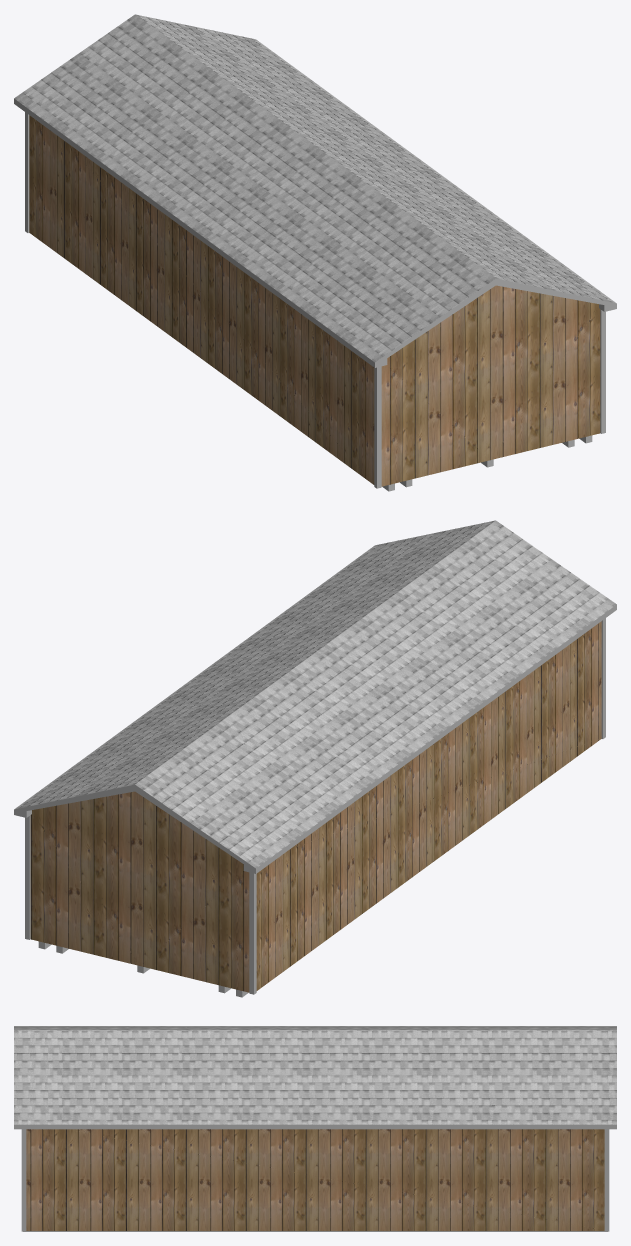
File: Classic A-Frame_12x32.obj
3 views of the same model, one above another, from view 1: azimuth 30°, elevation 25°; view 2: azimuth 150°, elevation 25°; view 3: azimuth 270°, elevation 25° (orthographic). The views are drawn at different scales.
Parts seen in each view (by area): view 1: Roof, Shed, Sides, Trim; view 2: Roof, Shed, Sides, Trim; view 3: Roof, Shed, Sides, Trim, Floor.
Part boxes in pixels (x1=…): Roof: x1=14, y1=14, x2=616, y2=362; Shed: x1=29, y1=115, x2=600, y2=486; Sides: x1=14, y1=98, x2=616, y2=367; Trim: x1=25, y1=112, x2=605, y2=488; Roof: x1=14, y1=520, x2=616, y2=868; Shed: x1=30, y1=621, x2=601, y2=992; Sides: x1=14, y1=604, x2=616, y2=873; Trim: x1=25, y1=618, x2=605, y2=994; Roof: x1=14, y1=1026, x2=616, y2=1124; Shed: x1=26, y1=1129, x2=604, y2=1230; Sides: x1=14, y1=1124, x2=616, y2=1129; Trim: x1=21, y1=1129, x2=609, y2=1231; Floor: x1=23, y1=1231, x2=607, y2=1231.
Size of the model in its own units: 3.9 by 2.96 by 10.06.
